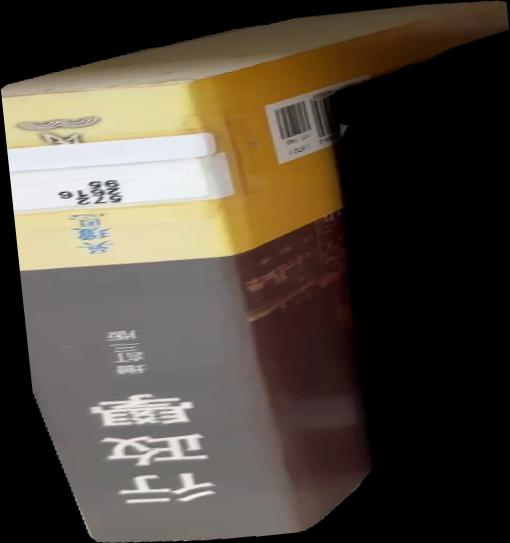reverse: (1, 1, 510, 543)
